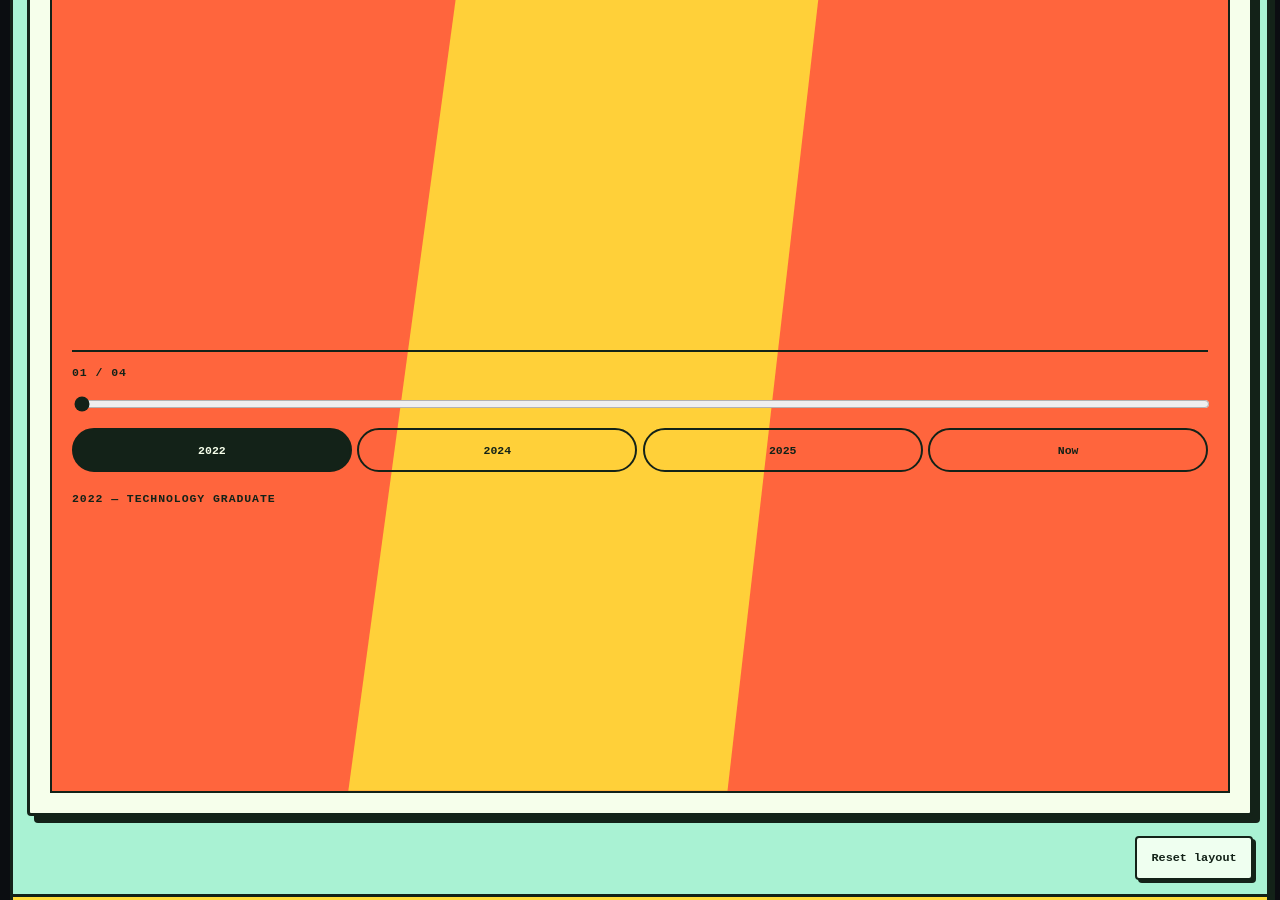
it: Career.app RED contract › offers the four direct year buttons and keeps their pressed state synchronized
(page scrolled)
Expected: the button "2022" is shown, [72,428,352,472]
Expected: the button "2024" is shown, [357,428,637,472]
Step 1. Click the button "2025" → (783, 450), box [643,428,923,472]
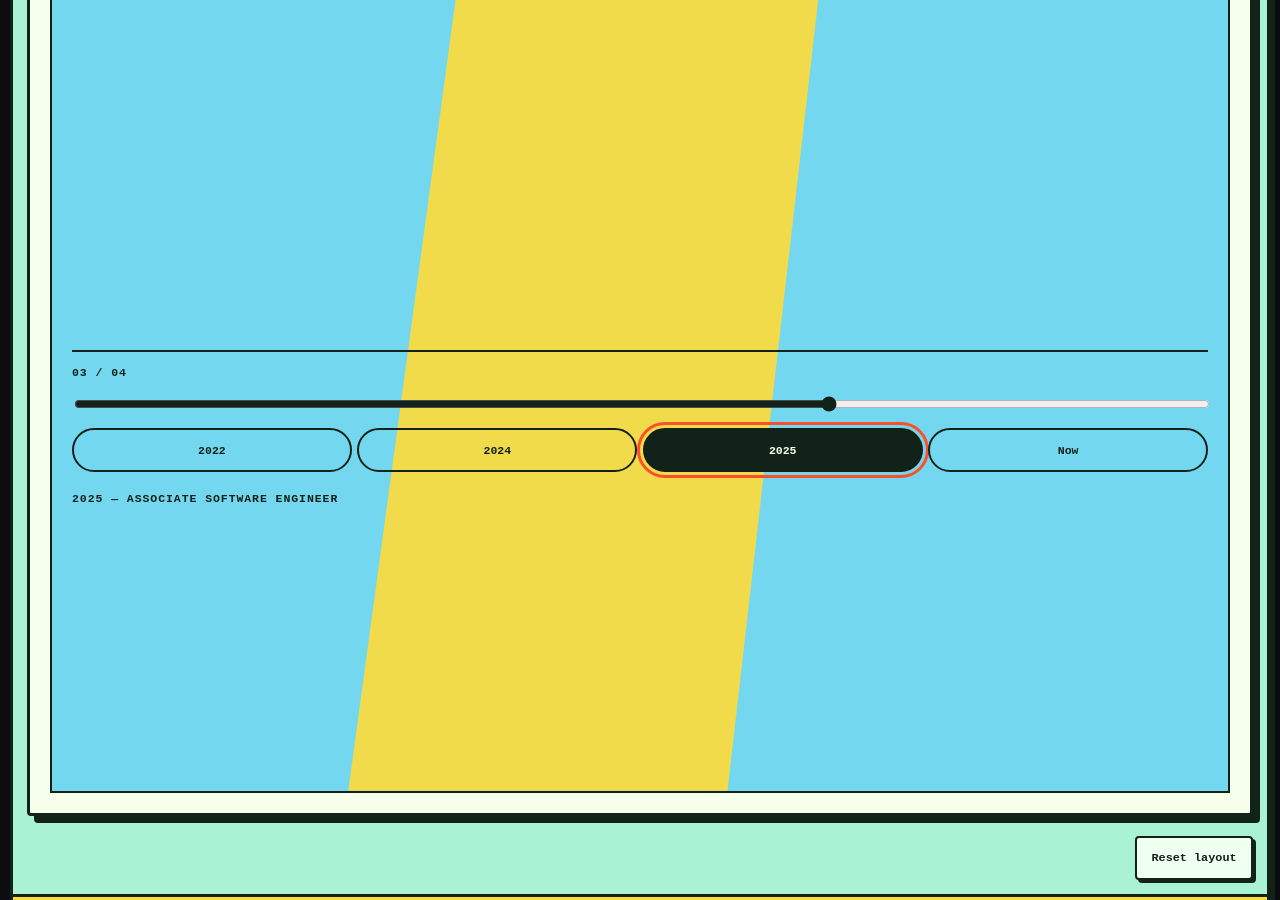
Expected: the slider named "Career stage" holds "2", [74,396,1210,412]
